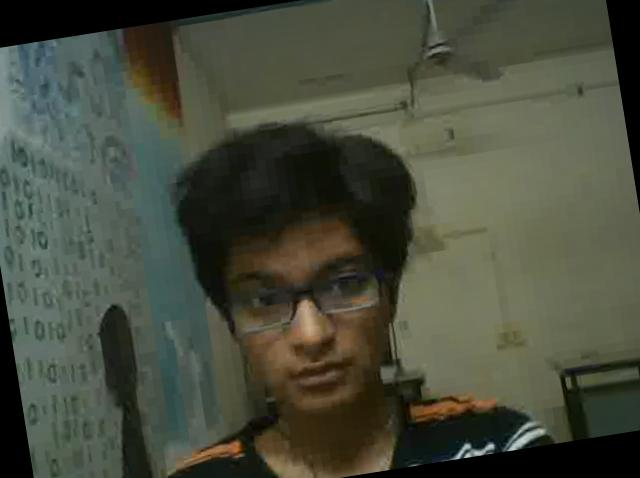bingung: (210, 197, 404, 428)
